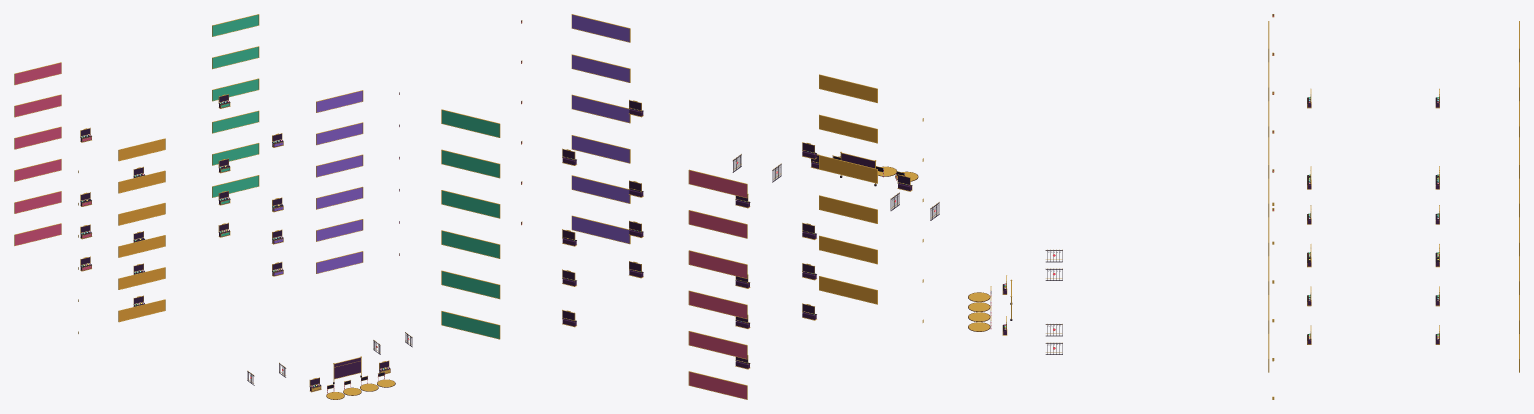
The model's file is CR-Station-Dressing.glb.
3 renders of one model, left to right at view 1: azimuth 30°, elevation 25°; view 2: azimuth 150°, elevation 25°; view 3: azimuth 270°, elevation 25°, orthographic. The views are drawn at different scales.
Visible parts, largest first — view 1: dressing; view 2: dressing; view 3: dressing.
Part boxes in pixels (box(x1,y1,x2,y2)): dressing: box(14, 14, 412, 399); dressing: box(441, 14, 939, 399); dressing: box(968, 14, 1519, 399).
Bounding box in the file's own units: 83.43 × 45.28 × 103.
